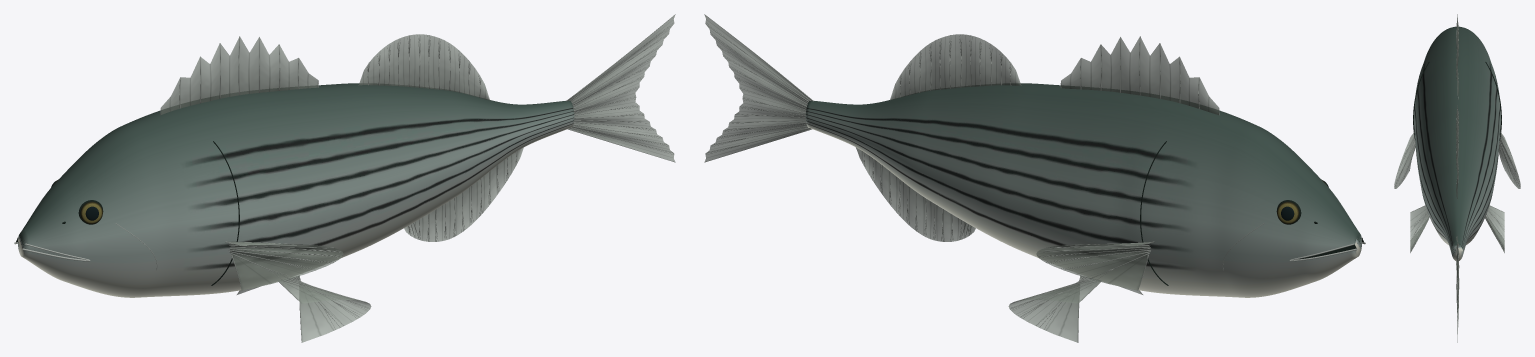
File: white-bass.glb
3 views of the same model, side by side, from view 1: azimuth 30°, elevation 25°; view 2: azimuth 150°, elevation 25°; view 3: azimuth 270°, elevation 25° (orthographic). The views are drawn at different scales.
Visible parts, largest first — view 1: white-bass specimen; view 2: white-bass specimen; view 3: white-bass specimen.
Part boxes in pixels (x1,y1,x2,y2): white-bass specimen: [14, 14, 675, 342]; white-bass specimen: [704, 14, 1365, 342]; white-bass specimen: [1394, 14, 1520, 342].
Bounding box in the file's own units: 2.46 × 1.04 × 0.566.
Materials: 10 (6 with a texture image).
